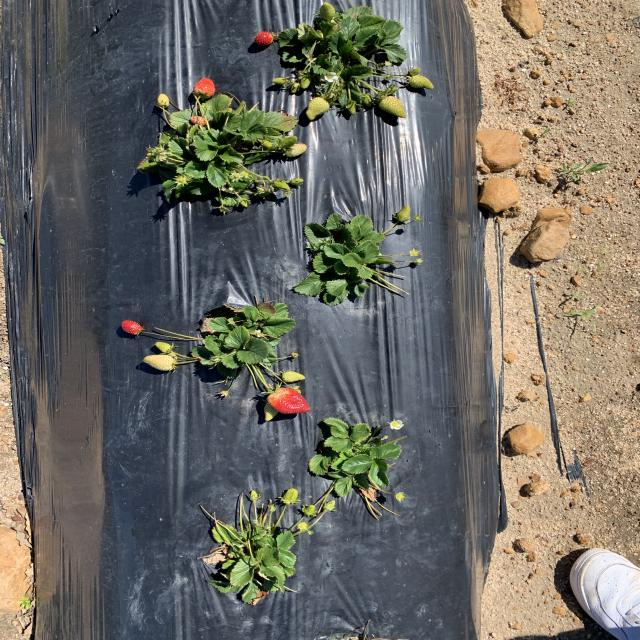unripe: (267, 386, 312, 415), (192, 76, 218, 98), (119, 318, 141, 336), (255, 30, 275, 46)
